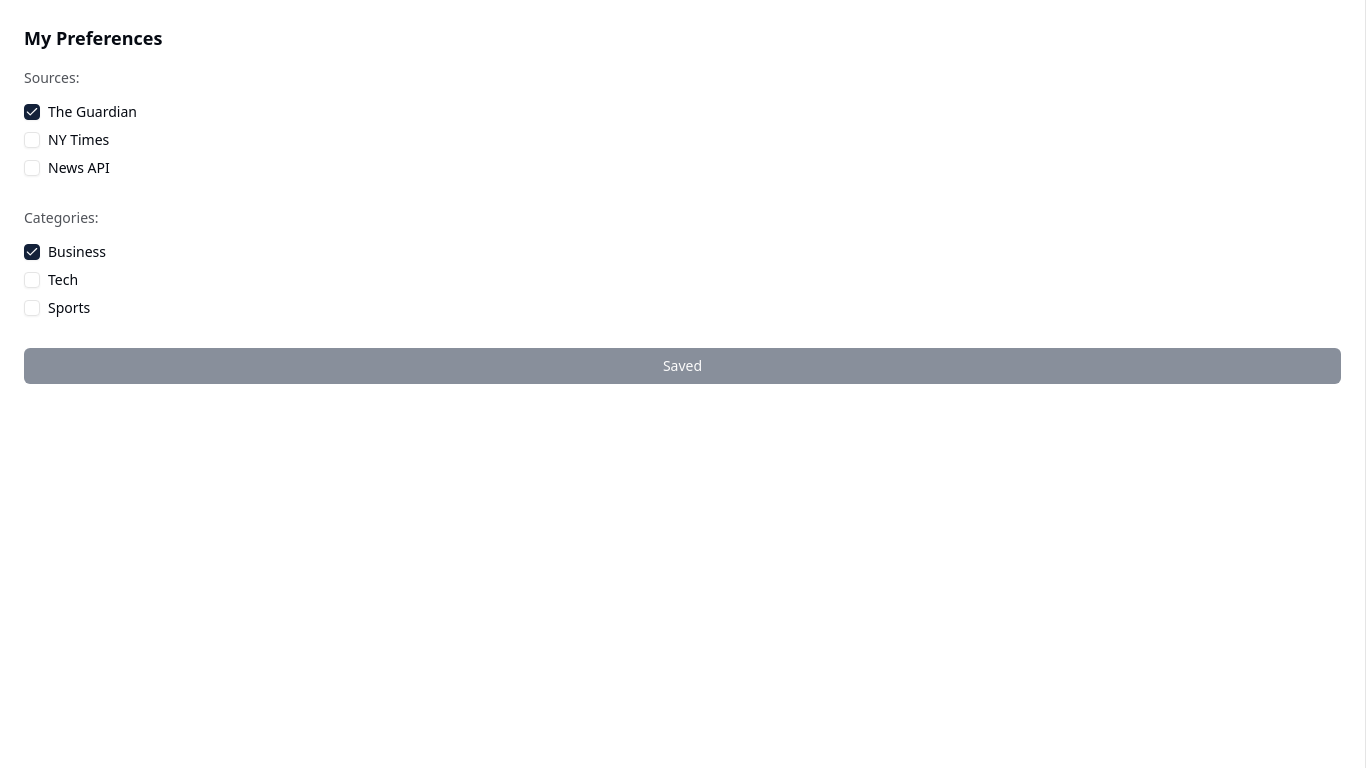
Test: SideBar › enables save button when a selection changes
Expected: the button is disabled, [24,348,1341,384]
Click the checkbox named "tech" next to "tech" at [32, 280], box [24,272,40,288]
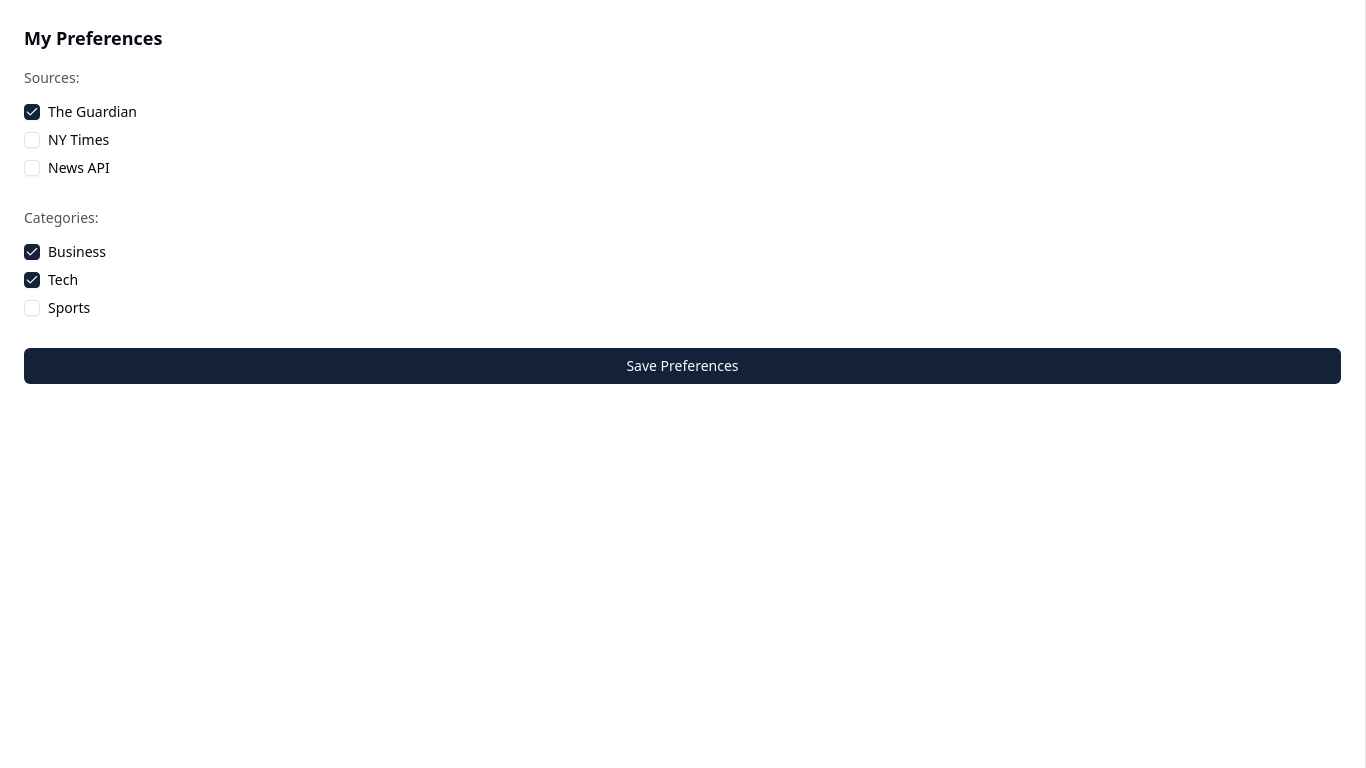
Expected: the button is enabled, [24,348,1341,384]
Expected: the button reads "Save Preferences", [24,348,1341,384]
